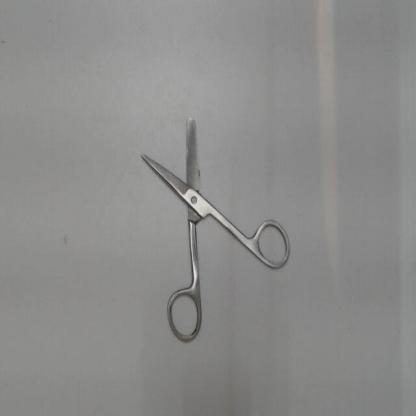Dressing Scissors: (129, 104, 296, 349)
